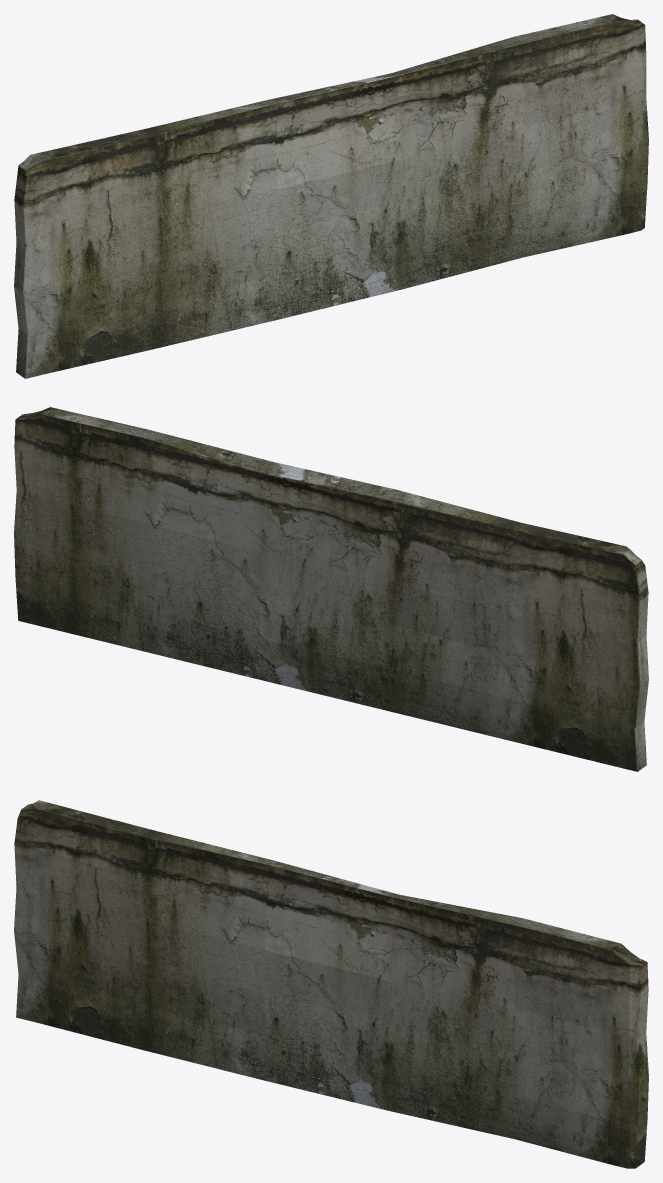
Rendered from wall.fbx.
3 views of the same model, one above another, from view 1: azimuth 30°, elevation 25°; view 2: azimuth 150°, elevation 25°; view 3: azimuth 330°, elevation 25° (orthographic).
Parts seen in each view (by area): view 1: wall:Default; view 2: wall:Default; view 3: wall:Default.
Part boxes in pixels (left/top/right/bottom): wall:Default: left=14, top=14, right=648, bottom=378; wall:Default: left=14, top=407, right=648, bottom=771; wall:Default: left=14, top=800, right=648, bottom=1168.
Size of the model in its own units: 5.8 by 1.9 by 0.2409.
Materials: 1 (1 with a texture image).
